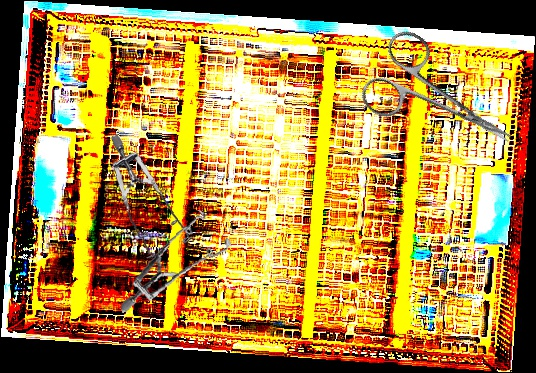Iris Scissors: (354, 24, 532, 181)
Speculum: (97, 134, 205, 264), (109, 206, 239, 313)
